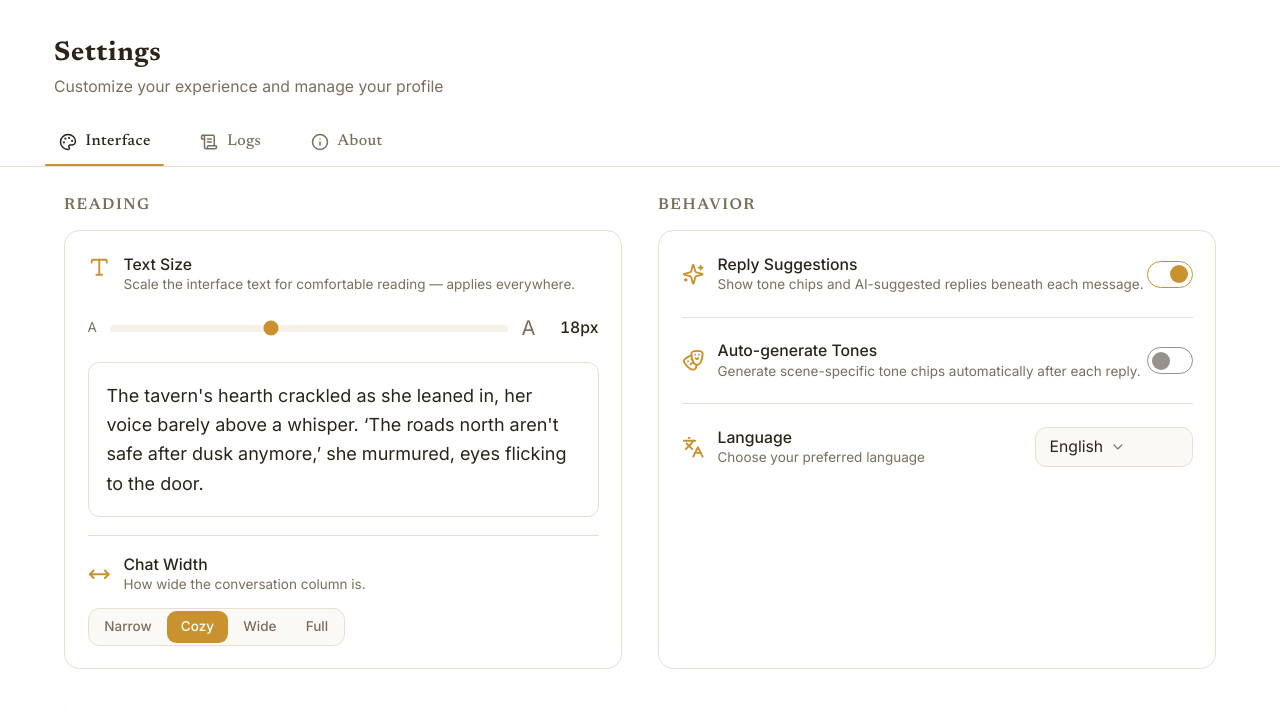
Test case: renders empty log categories and zero-request statistics
Click the button "Logs": {"x": 231, "y": 142} [178,117,284,166]
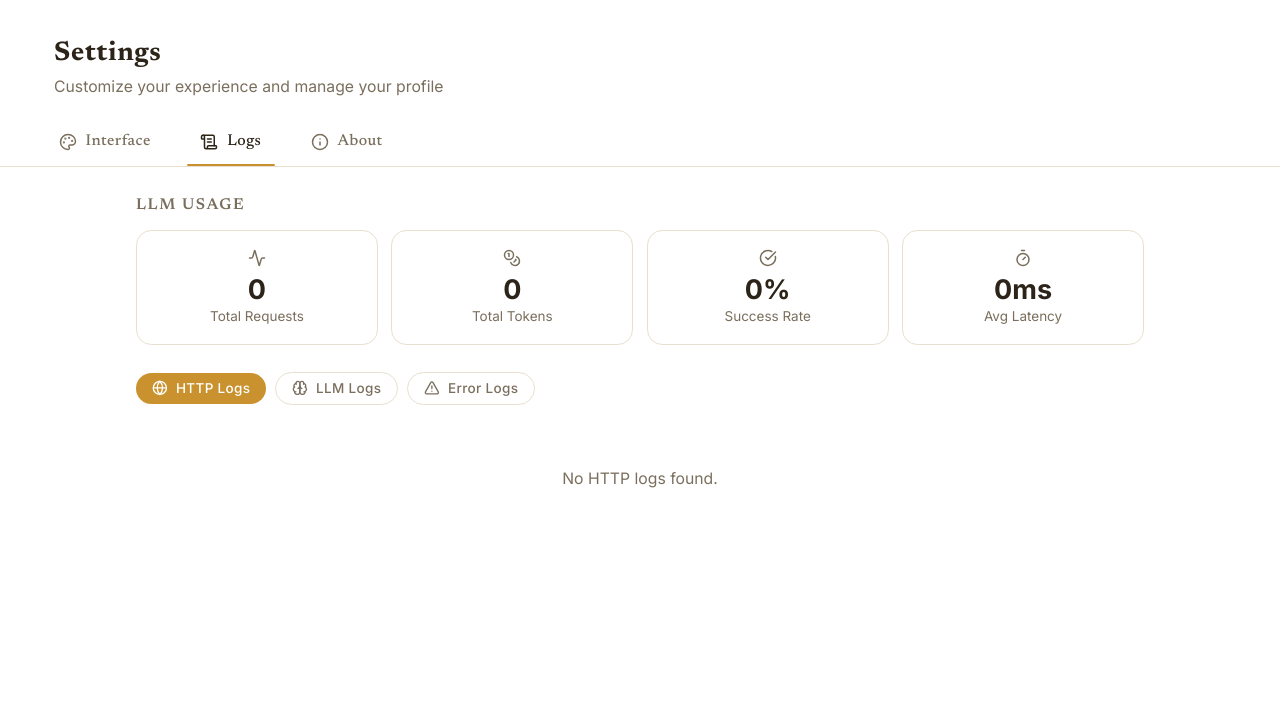
Expected: the element that starts with "Settings" shows "No HTTP logs found.", [562,469,718,488]
Click the button "LLM Logs": {"x": 337, "y": 389} [275,372,398,406]
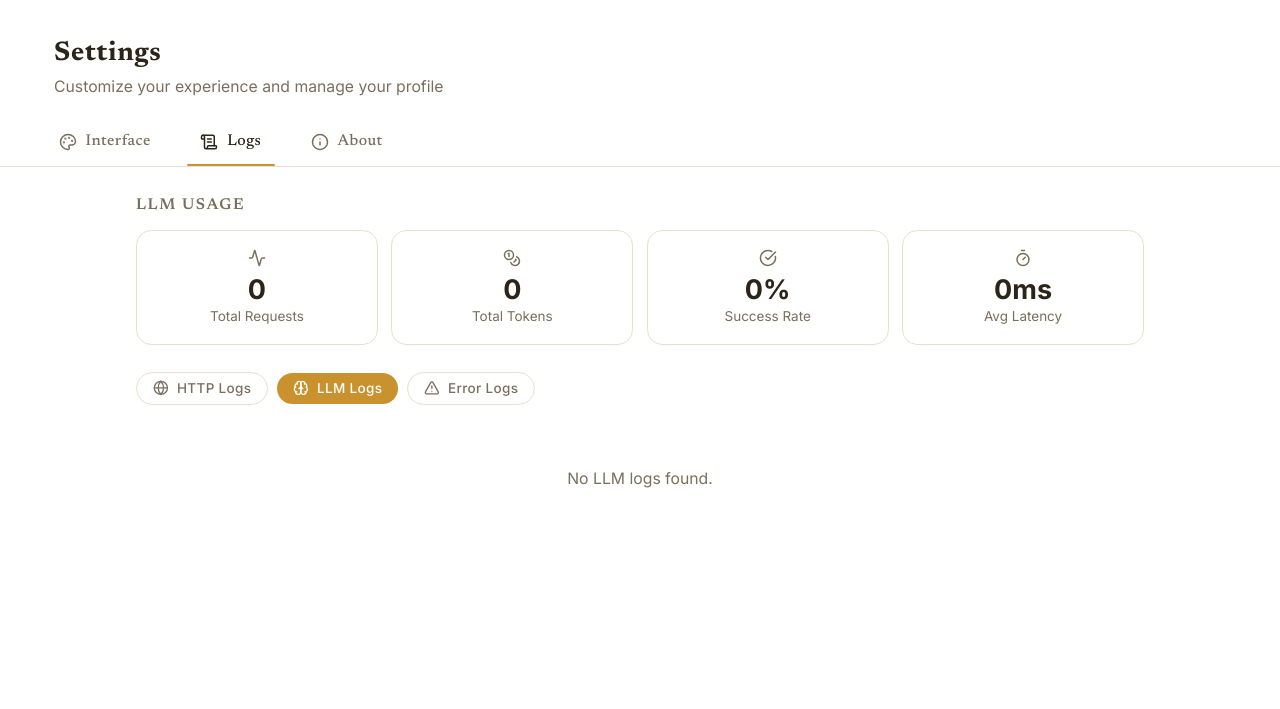
Expected: the element that starts with "Settings" shows "No LLM logs found.", [567,469,713,488]
Click the button "Error Logs": {"x": 471, "y": 389} [407,372,535,406]
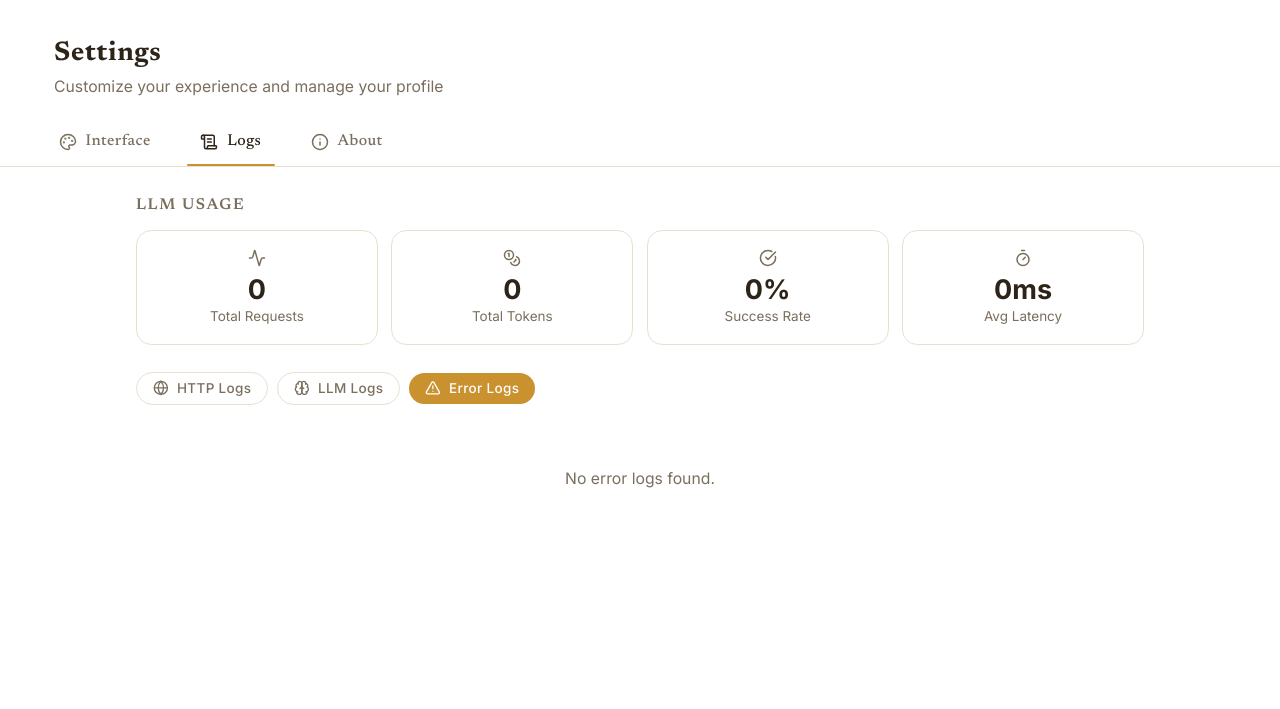
Expected: the element that starts with "Settings" shows "0%", [745,273,790,306]
Expected: the element that starts with "Settings" shows "No error logs found.", [565,469,715,488]
